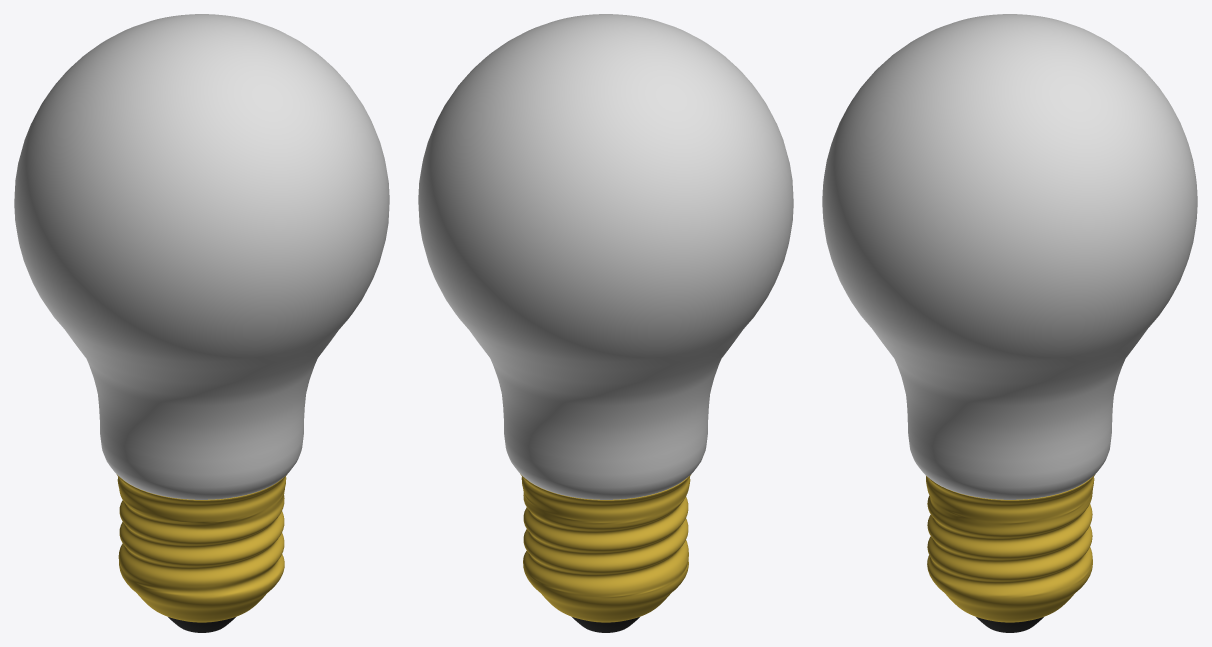
The picture shows the model from 3 angles, left to right: view 1: azimuth 30°, elevation 25°; view 2: azimuth 150°, elevation 25°; view 3: azimuth 270°, elevation 25°; orthographic projection.
Parts seen in each view (by area): view 1: Bulb, Twist; view 2: Bulb, Twist; view 3: Bulb, Twist.
Boxes of the visible parts, bbox=[...] form: Bulb: bbox=[14, 14, 389, 499]; Twist: bbox=[116, 474, 287, 632]; Bulb: bbox=[418, 14, 793, 499]; Twist: bbox=[520, 474, 691, 632]; Bulb: bbox=[822, 14, 1197, 499]; Twist: bbox=[926, 474, 1095, 632].
Bounding box in the file's own units: 0.2859 × 0.4996 × 0.2859.
